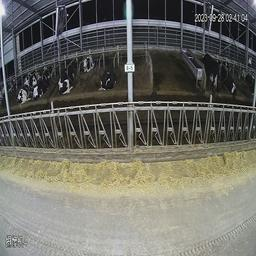cow: (198, 52, 220, 103), (99, 56, 118, 92), (17, 75, 37, 107), (56, 64, 76, 95), (221, 66, 237, 102), (32, 69, 51, 99), (82, 55, 96, 73)
